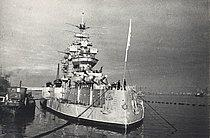Ship: (43, 18, 152, 133), (1, 83, 40, 121)
